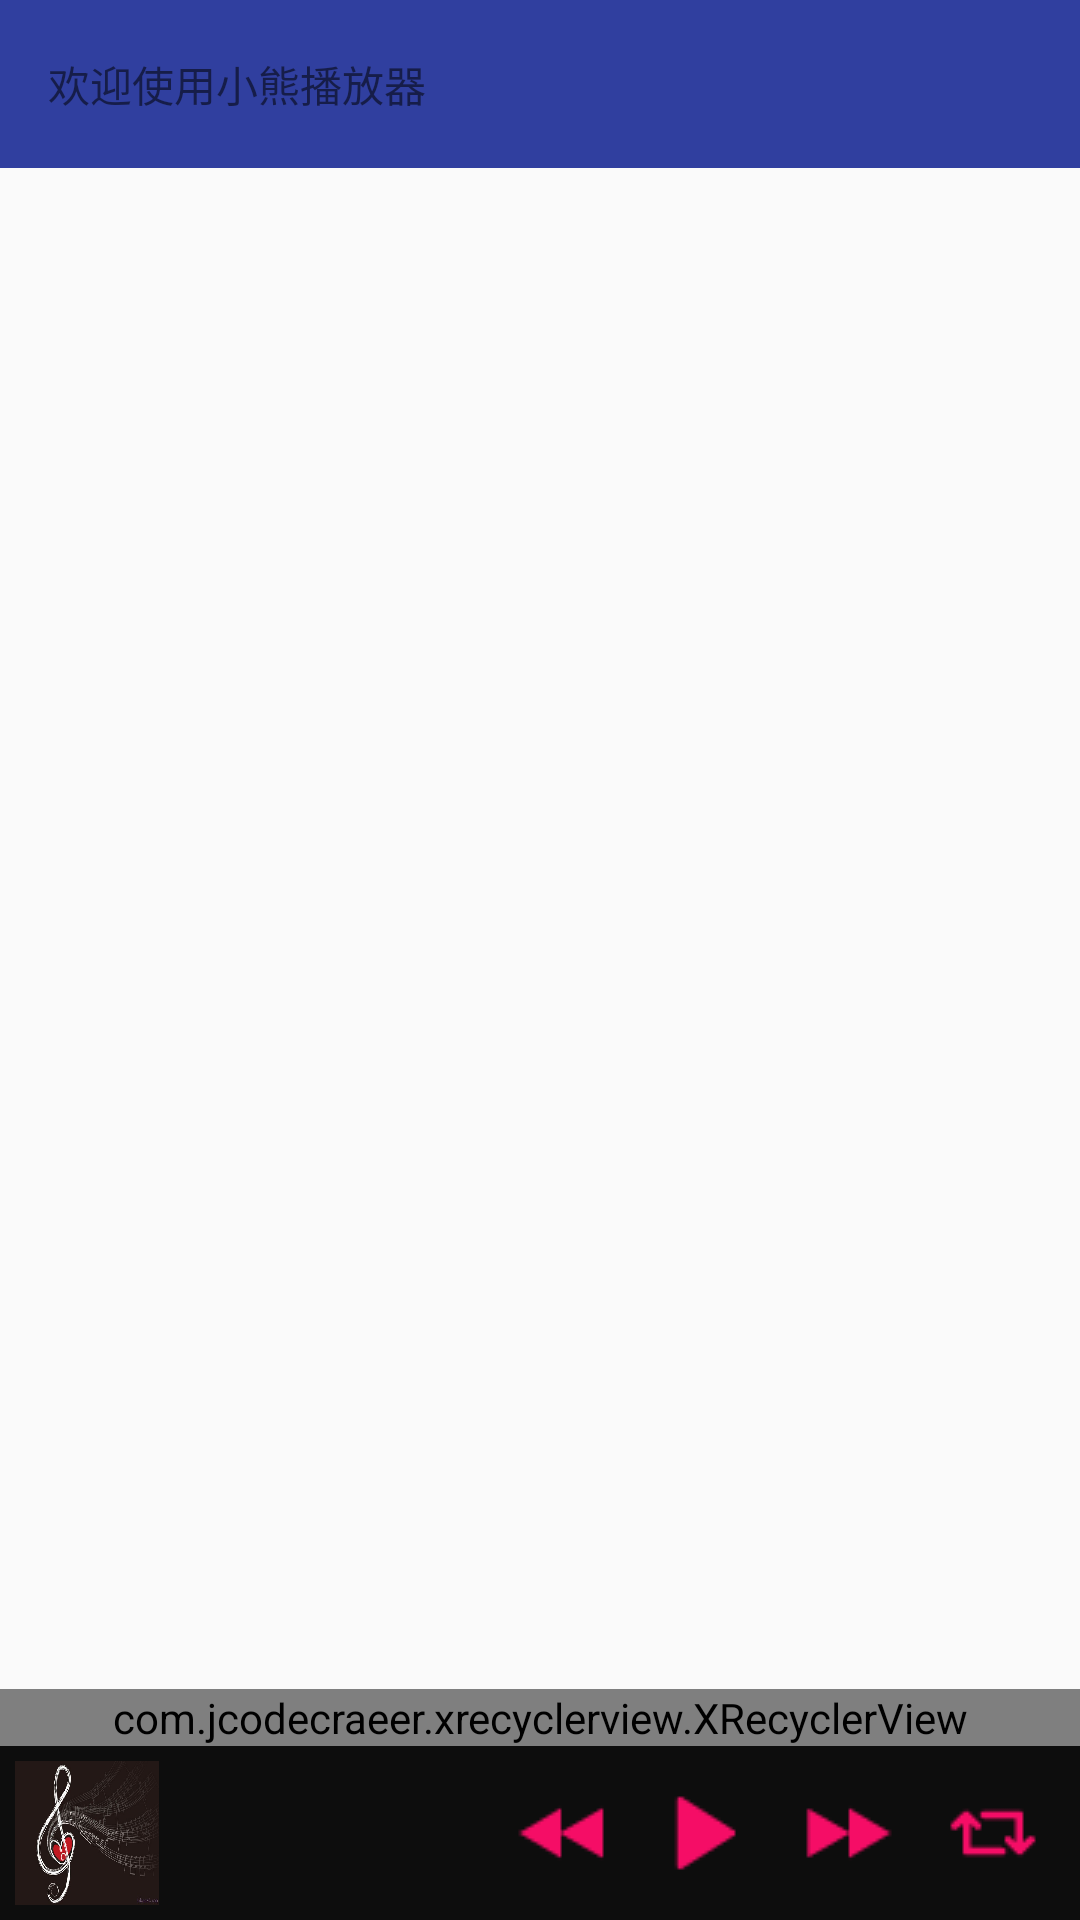

Where to tap for icons on this 1080 × 1920 app screen, as (x=x, y=y):
last: (x=561, y=1833)
next: (x=848, y=1833)
round: (x=993, y=1833)
